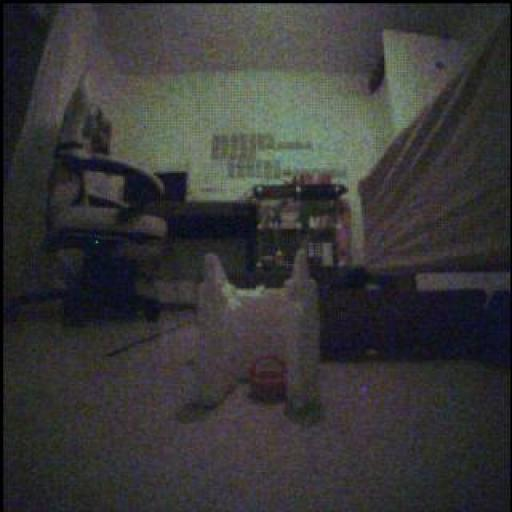basket: (251, 356, 288, 403)
